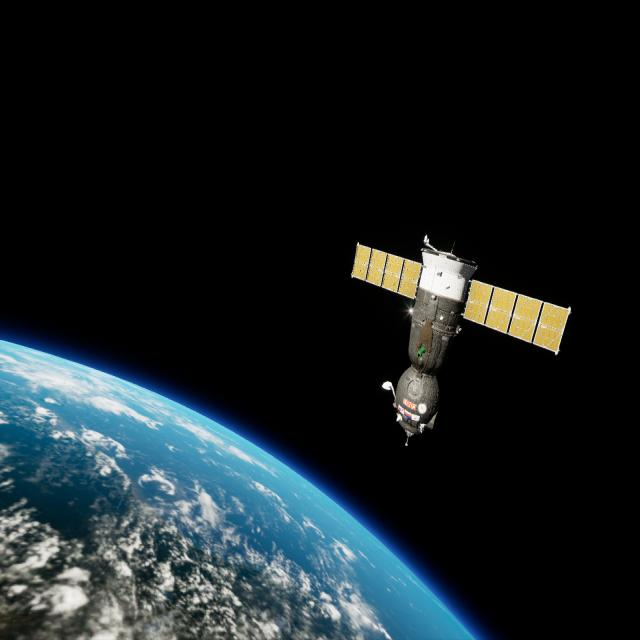Satellites revolving around earth: (1, 337, 479, 639), (349, 232, 573, 448)
